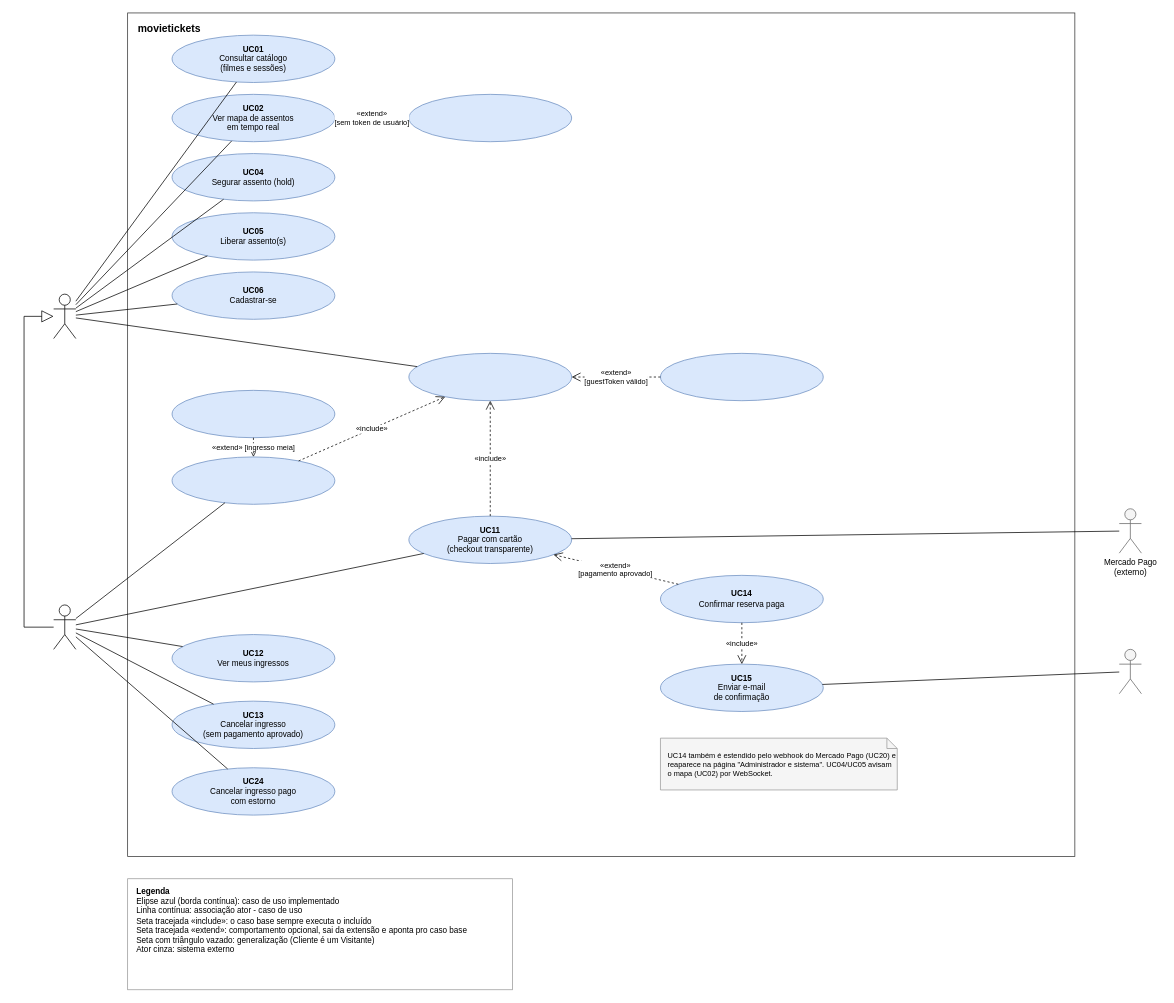
This 1174x1003 diagram has some shape labels left out. The shapes that lost their labels are listed below. From the top down, each one's centre as x and y in pixels, then its label:
pixel 490 118: UC03 Obter identidade de convidado
pixel 64 316: Visitante (convidado)
pixel 490 377: UC07 Autenticar (login)
pixel 741 377: UC08 Transferir holds do convidado
pixel 253 414: UC10 Informar meia-entrada
pixel 253 480: UC09 Reservar assentos
pixel 64 626: Cliente (logado)
pixel 1130 671: Serviço de e-mail (SMTP / Mailpit)
